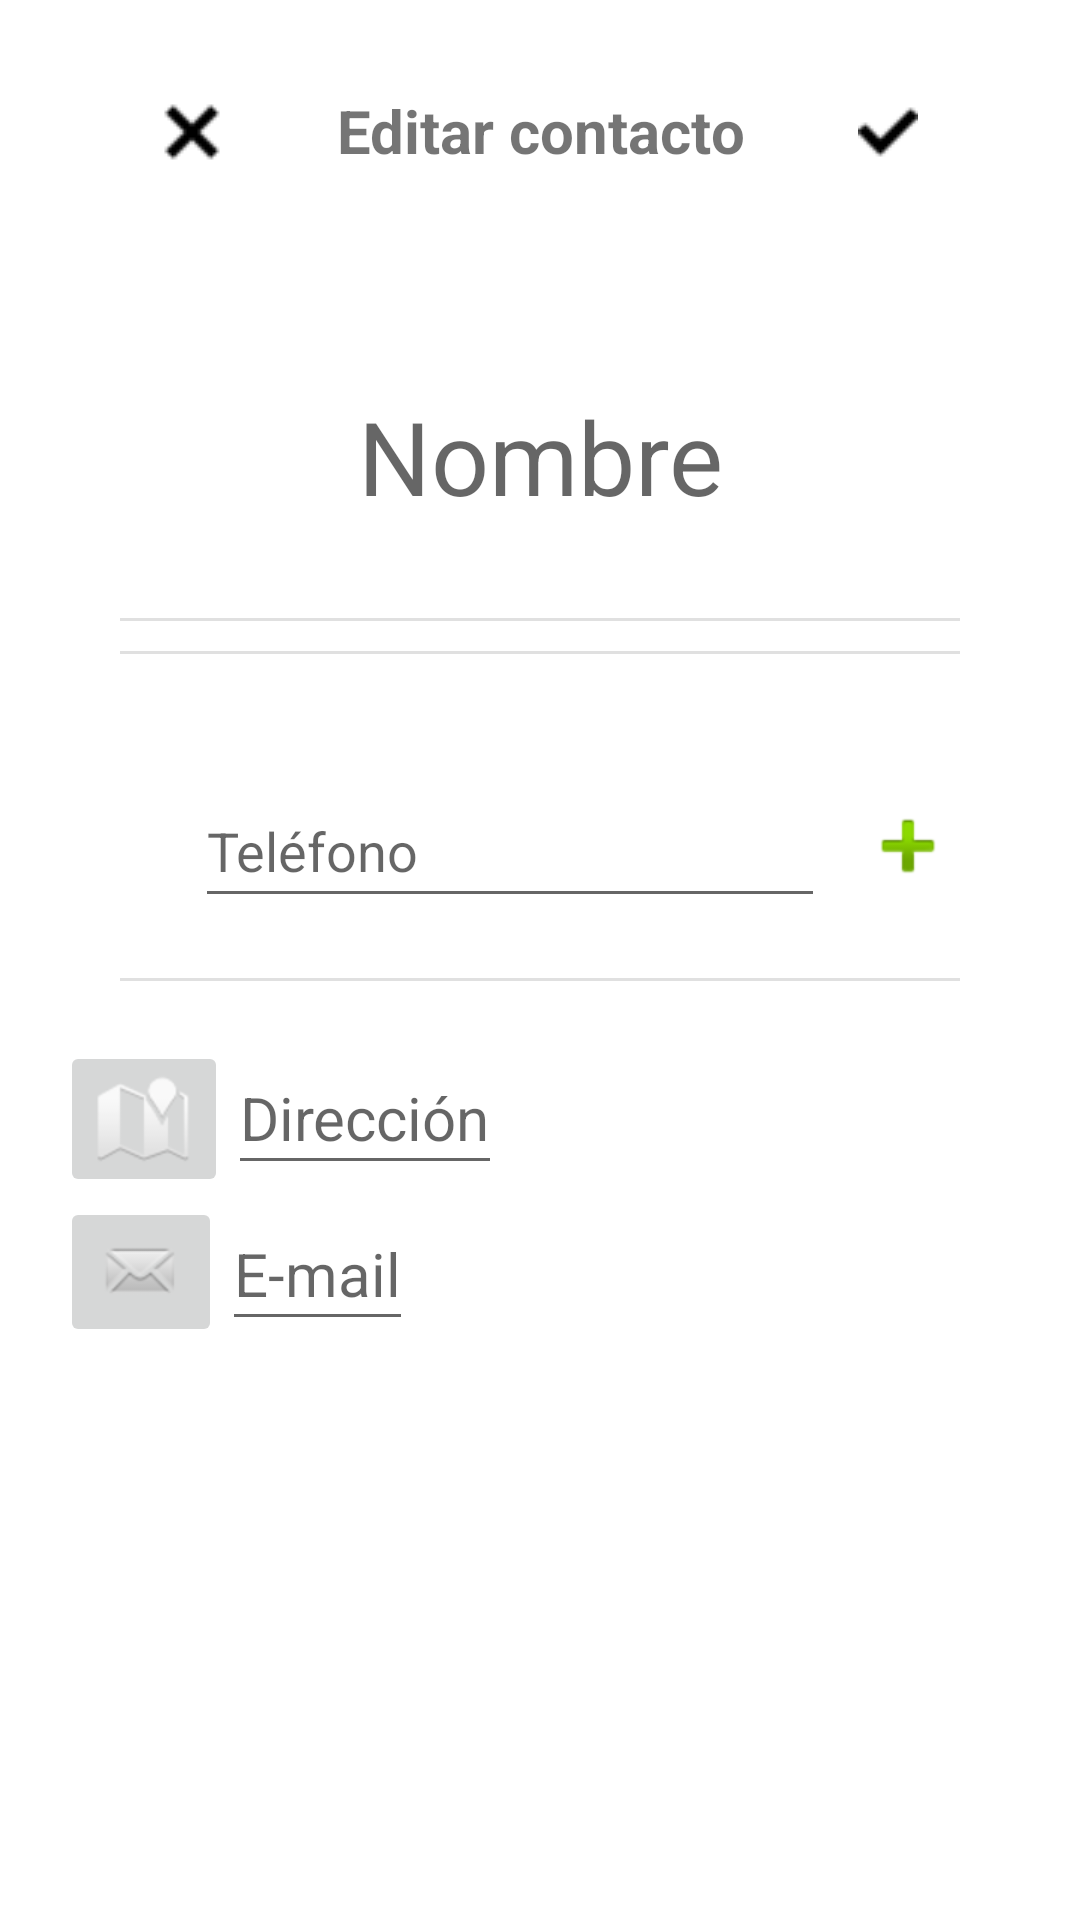

Screen size 1080×1920. Icon name, then its center in pixels as point (x, y):
add: point (908, 846)
cancel: point (192, 132)
check: point (888, 132)
map: point (144, 1119)
